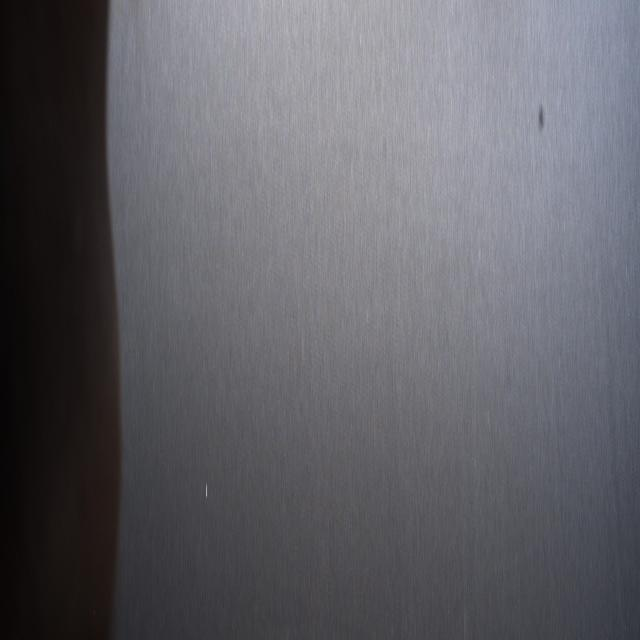crease: (607, 293, 628, 640)
whiteDefect: (204, 475, 209, 501)
